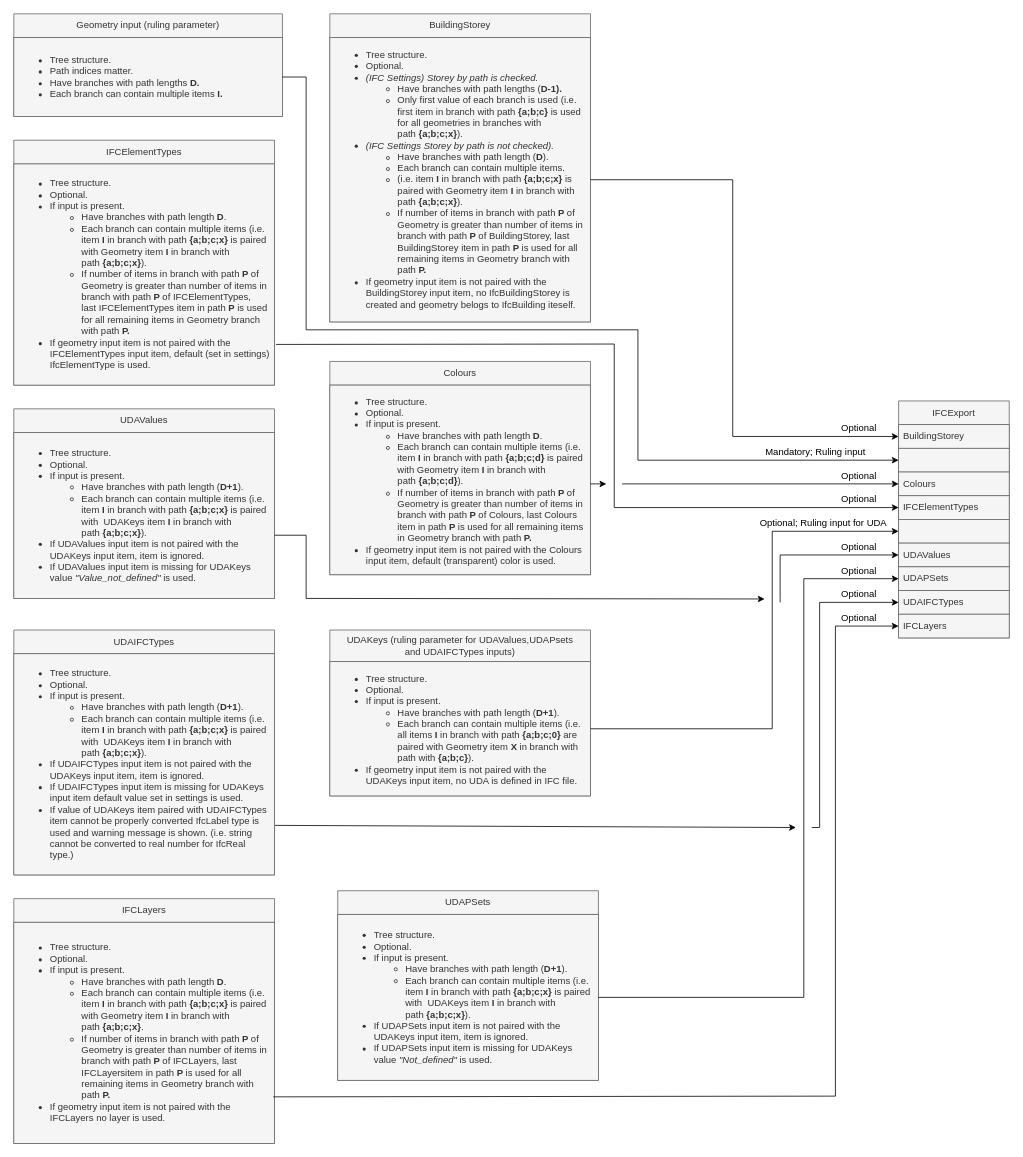
This 1023x1157 diagram has some shape labels left out. The shapes that lost their labels are listed below. From the top down, each one's centre as x and y in pixels, then its label:
At pixel 953 460: "Geometry".
At pixel 953 531: "UDAKeys".
